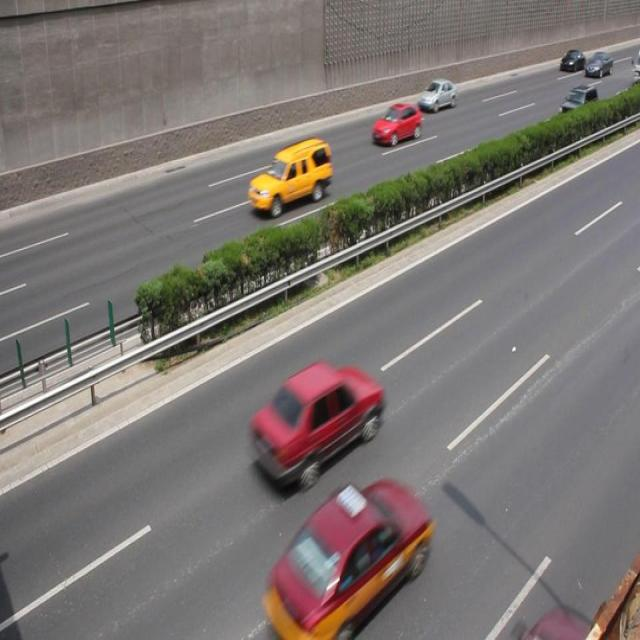car: (258, 482, 430, 620), (248, 360, 382, 488), (246, 136, 331, 217), (371, 101, 420, 146), (557, 81, 597, 132), (416, 79, 455, 113), (584, 51, 612, 78), (558, 48, 584, 72)
